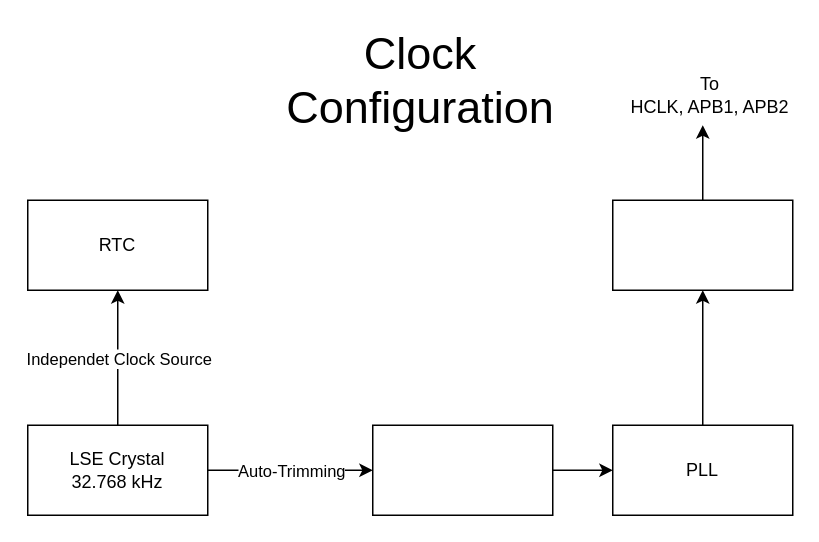
This 819x542 diagram has some shape labels left out. Here are the shapes that lost their labels. From the top down, the box of each, then its label:
(611, 199, 793, 290): SYSCLK System Clock
(371, 424, 553, 515): MSI 4 MHz
